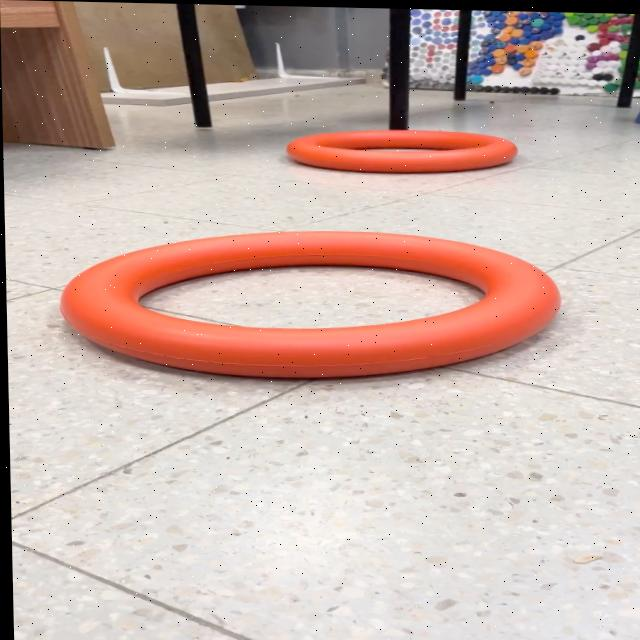note: (54, 222, 565, 384), (282, 124, 519, 175)
